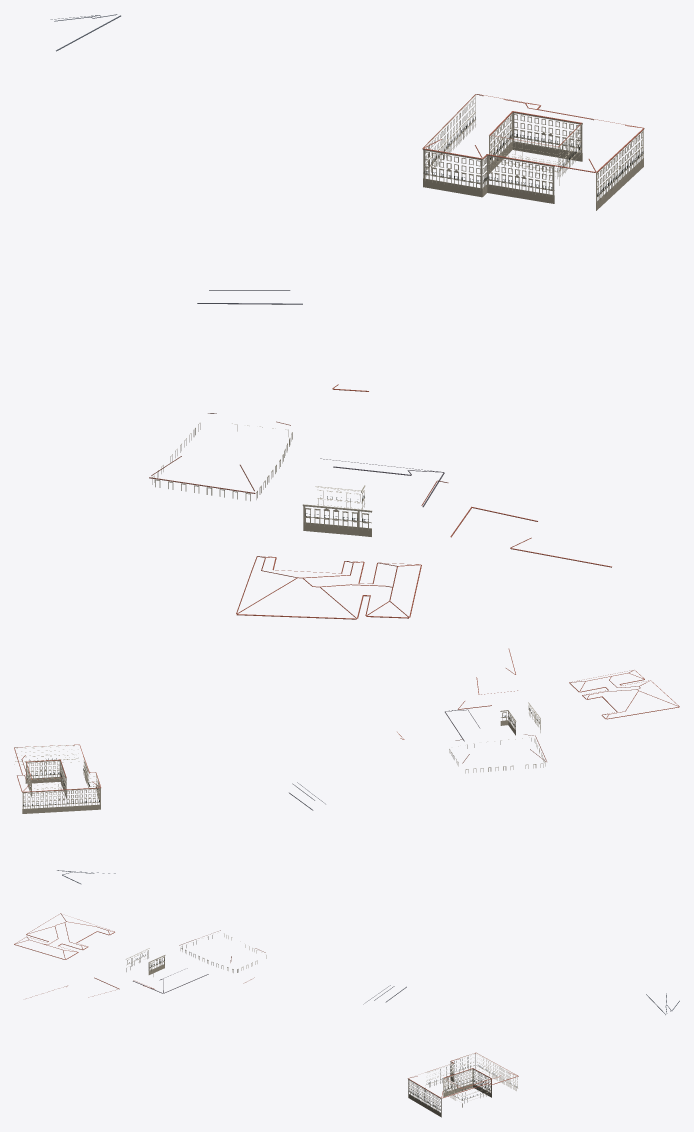
The picture shows the model from 3 angles, top to bottom: view 1: azimuth 30°, elevation 25°; view 2: azimuth 150°, elevation 25°; view 3: azimuth 270°, elevation 25°; orthographic projection. The views are drawn at different scales.
Parts seen in each view (by area): view 1: detail; view 2: detail; view 3: detail.
Part boxes in pixels (box(x1,y1,x2,y2)): detail: box(50, 14, 644, 619); detail: box(14, 648, 679, 884); detail: box(14, 913, 679, 1117).
Size of the model in its own units: 281 by 24.07 by 411.
